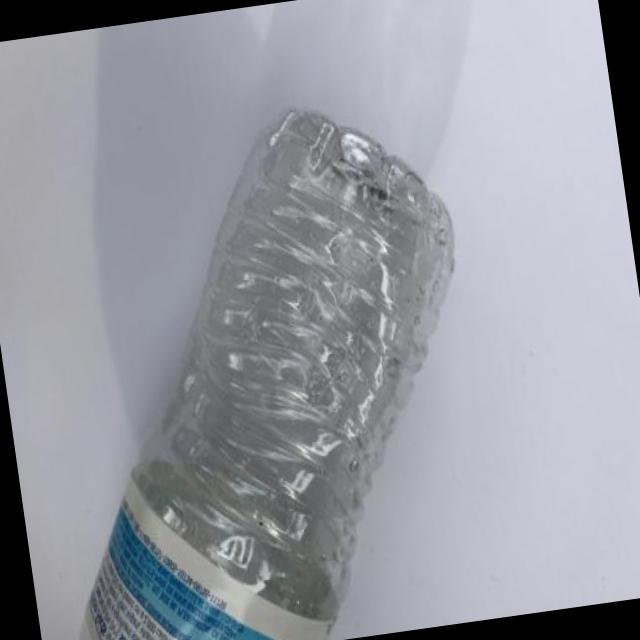bottle: (80, 111, 452, 639)
plastic: (133, 112, 452, 621)
